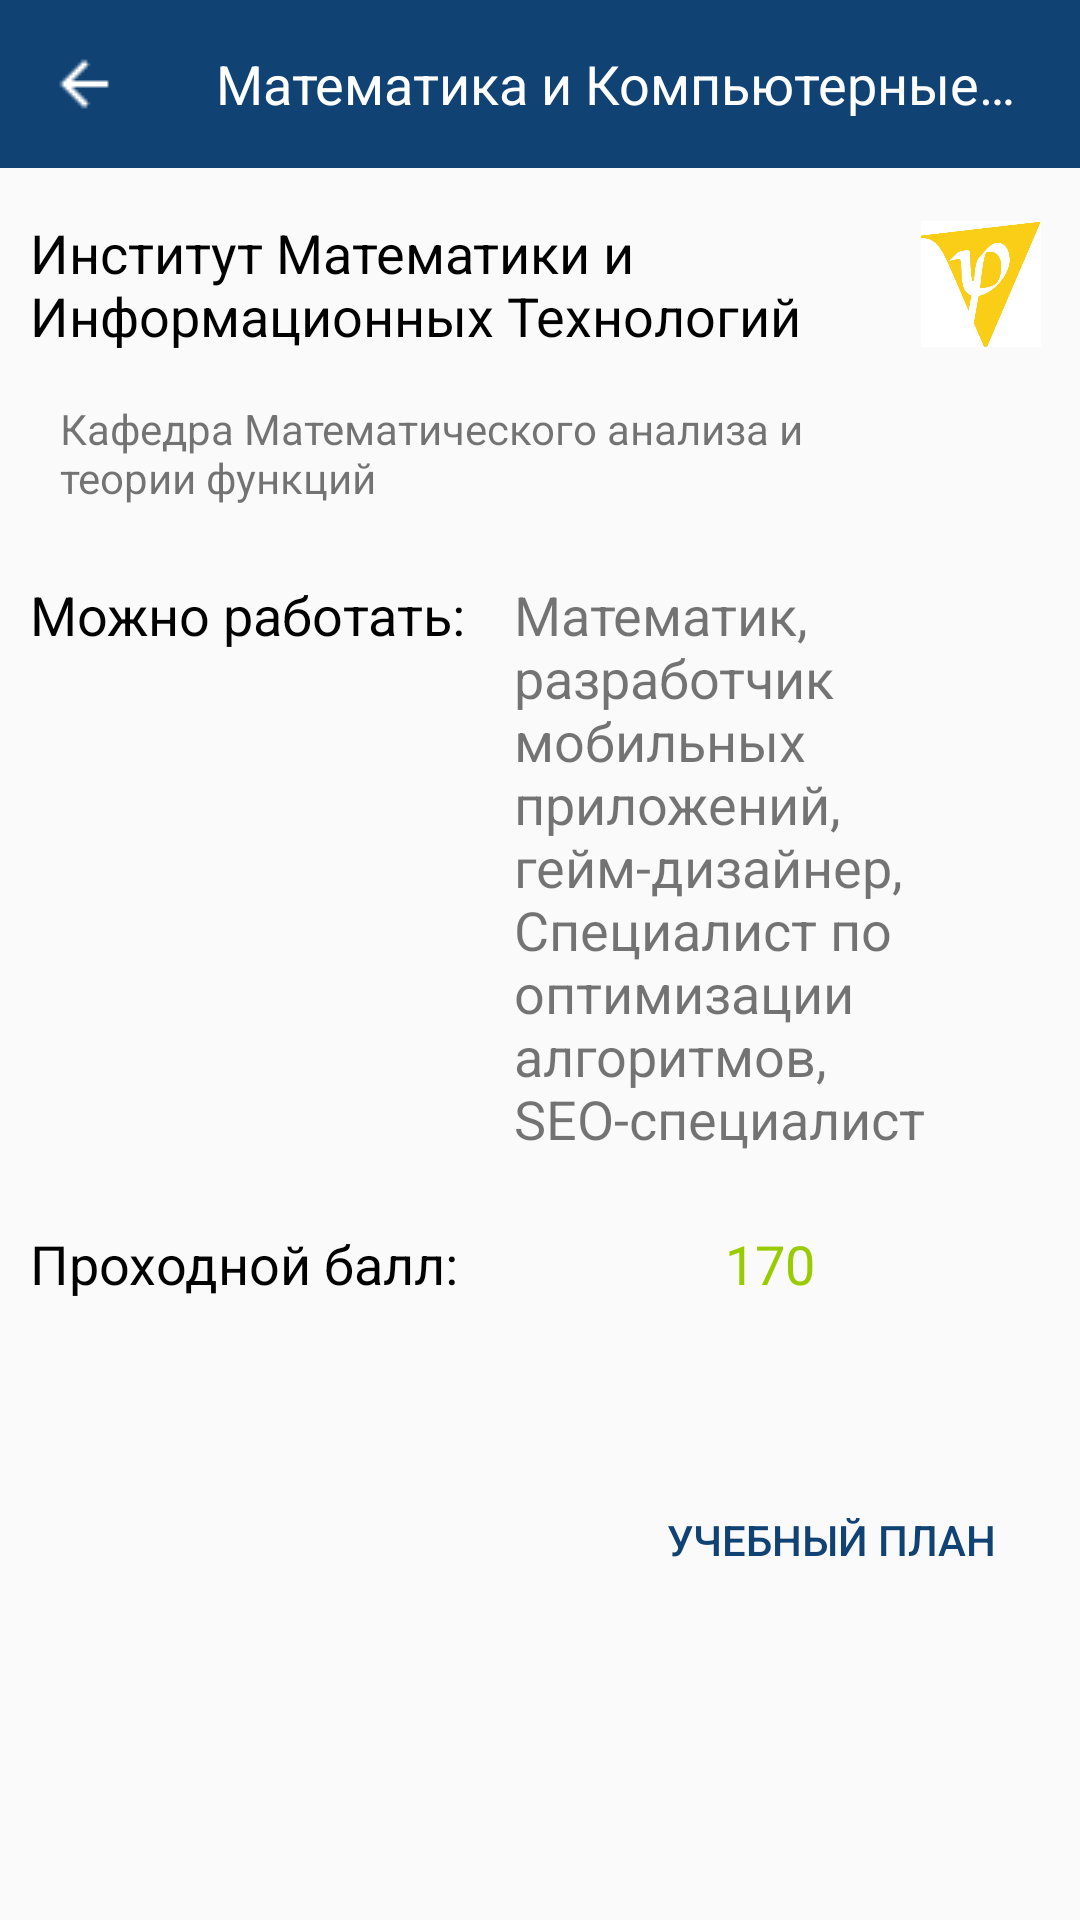

Screen size 1080px x 1920px. Icon name, then its box in pixels as (x1, y1, x2, y2):
emblem imit: (921, 221, 1041, 347)
